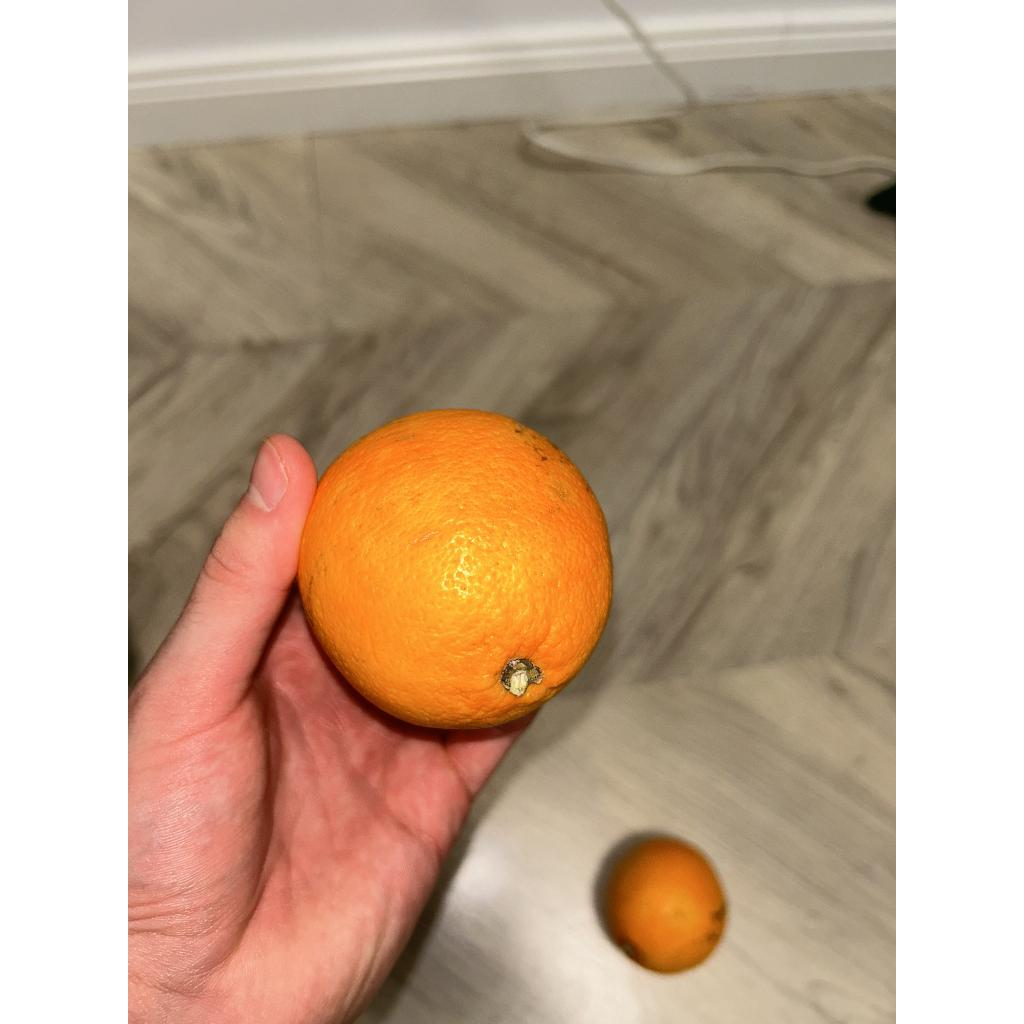orange: (295, 411, 614, 739), (593, 836, 729, 979)
